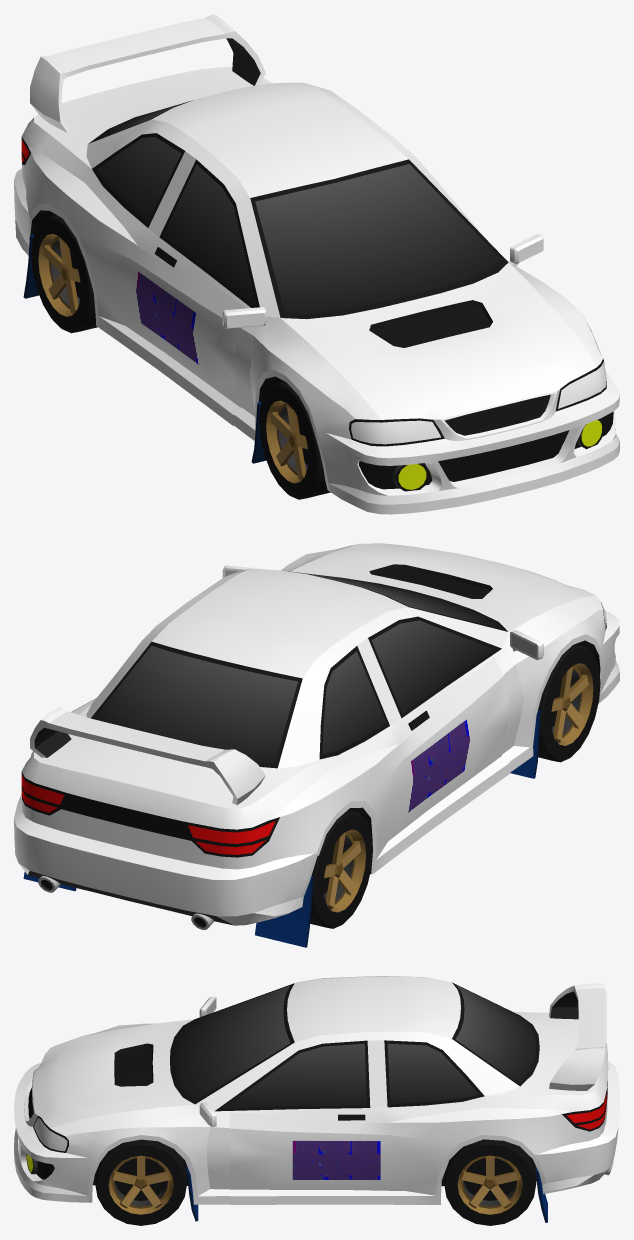
File: Car_B.fbx
3 renders of one model, top to bottom at view 1: azimuth 30°, elevation 25°; view 2: azimuth 150°, elevation 25°; view 3: azimuth 270°, elevation 25°, orthographic. The views are drawn at different scales.
Parts seen in each view (by area): view 1: Body, polySurface2, Spoiler, FrontRightWheel, RearRightWheel, MudFlaps; view 2: Body, polySurface2, Spoiler, FrontRightWheel, RearRightWheel, MudFlaps; view 3: Body, polySurface1, RearLeftWheel, FrontLeftWheel, Spoiler, MudFlaps.
Part boxes in pixels (<box>): Body: <box>14,67,619,514</box>; polySurface2: <box>26,156,246,425</box>; Spoiler: <box>30,14,265,132</box>; FrontRightWheel: <box>259,381,330,499</box>; RearRightWheel: <box>31,215,97,333</box>; MudFlaps: <box>23,234,266,463</box>; Body: <box>14,543,619,929</box>; polySurface2: <box>285,658,510,874</box>; Spoiler: <box>30,707,265,804</box>; FrontRightWheel: <box>538,644,600,762</box>; RearRightWheel: <box>310,810,372,928</box>; MudFlaps: <box>23,710,540,947</box>; Body: <box>14,976,619,1204</box>; polySurface1: <box>230,1112,557,1204</box>; RearLeftWheel: <box>444,1139,536,1225</box>; FrontLeftWheel: <box>95,1139,186,1225</box>; Spoiler: <box>549,983,606,1090</box>; MudFlaps: <box>186,1165,547,1222</box>.
Size of the model in its own units: 226 by 152 by 485.
6 materials, 6 textured.
